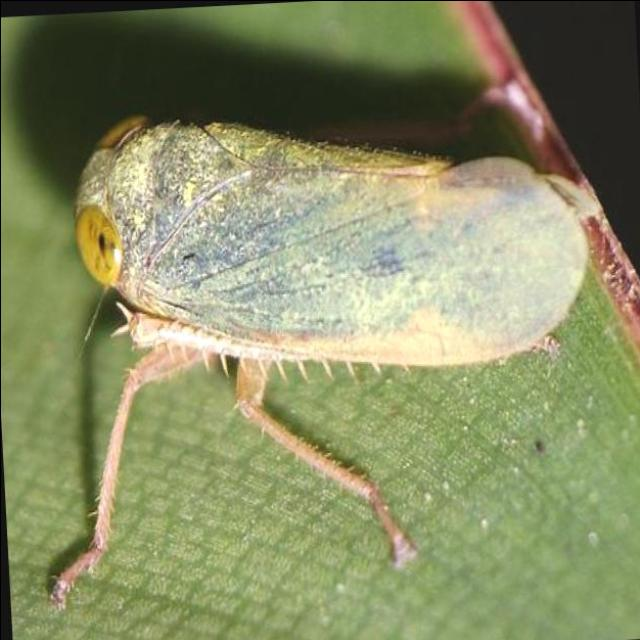green leaf hopper: (76, 117, 640, 551)
